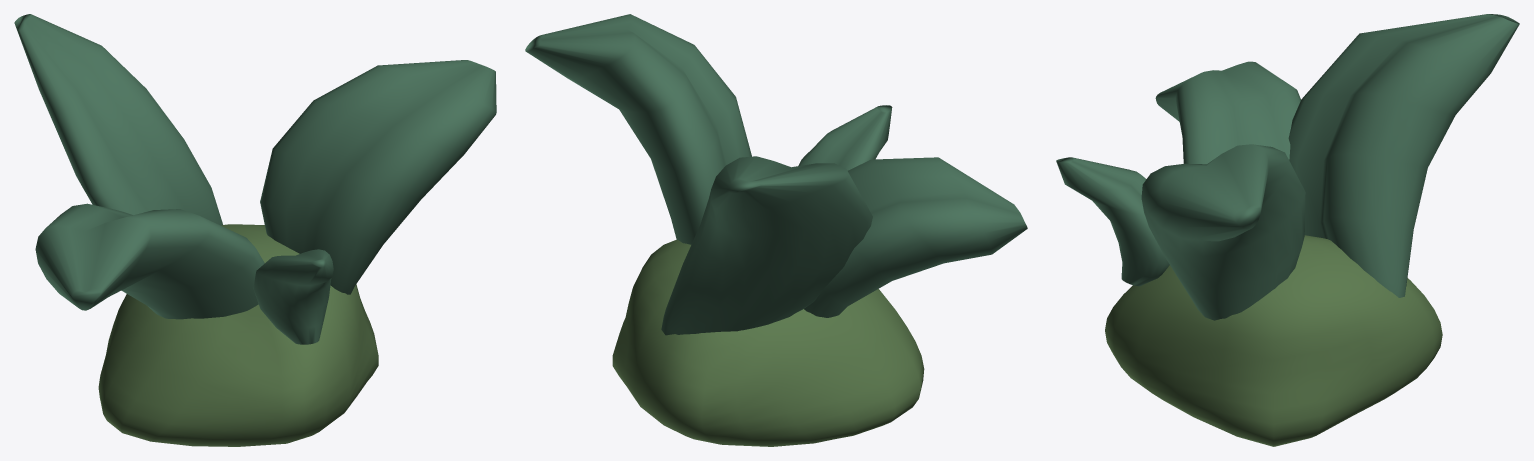
The model's file is sm_grass_03.fbx.
3 renders of one model, left to right at view 1: azimuth 30°, elevation 25°; view 2: azimuth 150°, elevation 25°; view 3: azimuth 270°, elevation 25°, orthographic.
Visible parts, largest first — view 1: sm_grass_03; view 2: sm_grass_03; view 3: sm_grass_03.
Boxes of the visible parts, <box> form: sm_grass_03: <box>14,14,496,446</box>; sm_grass_03: <box>525,14,1027,446</box>; sm_grass_03: <box>1056,14,1519,446</box>.
Size of the model in its own units: 3.15 by 2.15 by 2.75.
